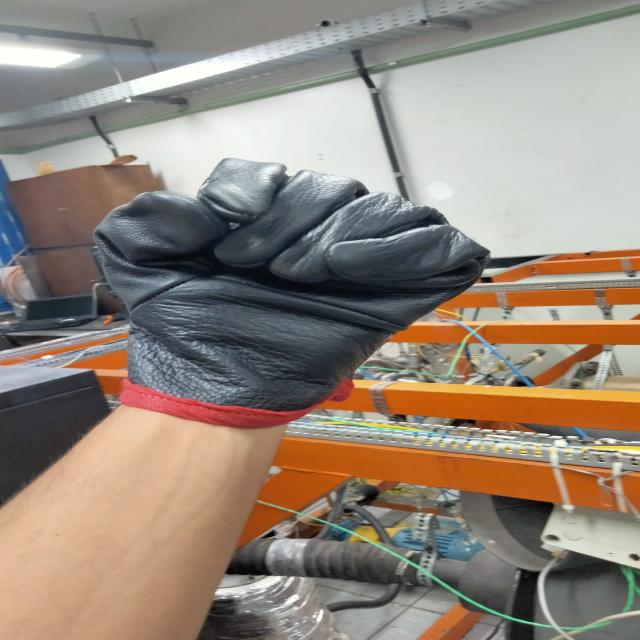Gloves: (88, 157, 480, 417)
